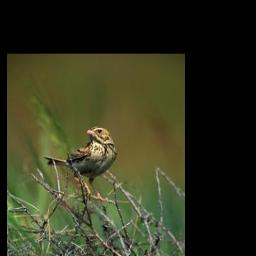Sparrow: (42, 125, 122, 208)
